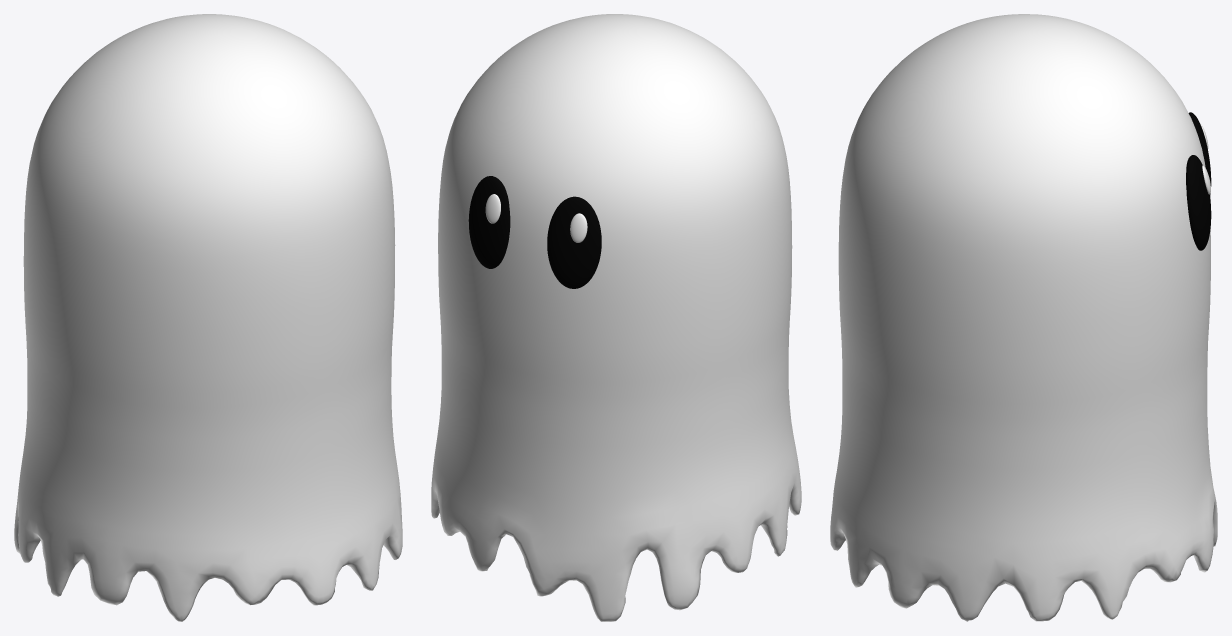
File: Player.obj
The picture shows the model from 3 angles, left to right: view 1: azimuth 30°, elevation 25°; view 2: azimuth 150°, elevation 25°; view 3: azimuth 270°, elevation 25°; orthographic projection. The views are drawn at different scales.
Parts seen in each view (by area): view 1: Sphere001; view 2: Sphere001; view 3: Sphere001.
Boxes of the visible parts, left/top/right/bottom form: Sphere001: left=14, top=14, right=402, bottom=621; Sphere001: left=431, top=14, right=801, bottom=621; Sphere001: left=830, top=14, right=1217, bottom=621.
Bounding box in the file's own units: 0.2316 × 0.3582 × 0.2317.
